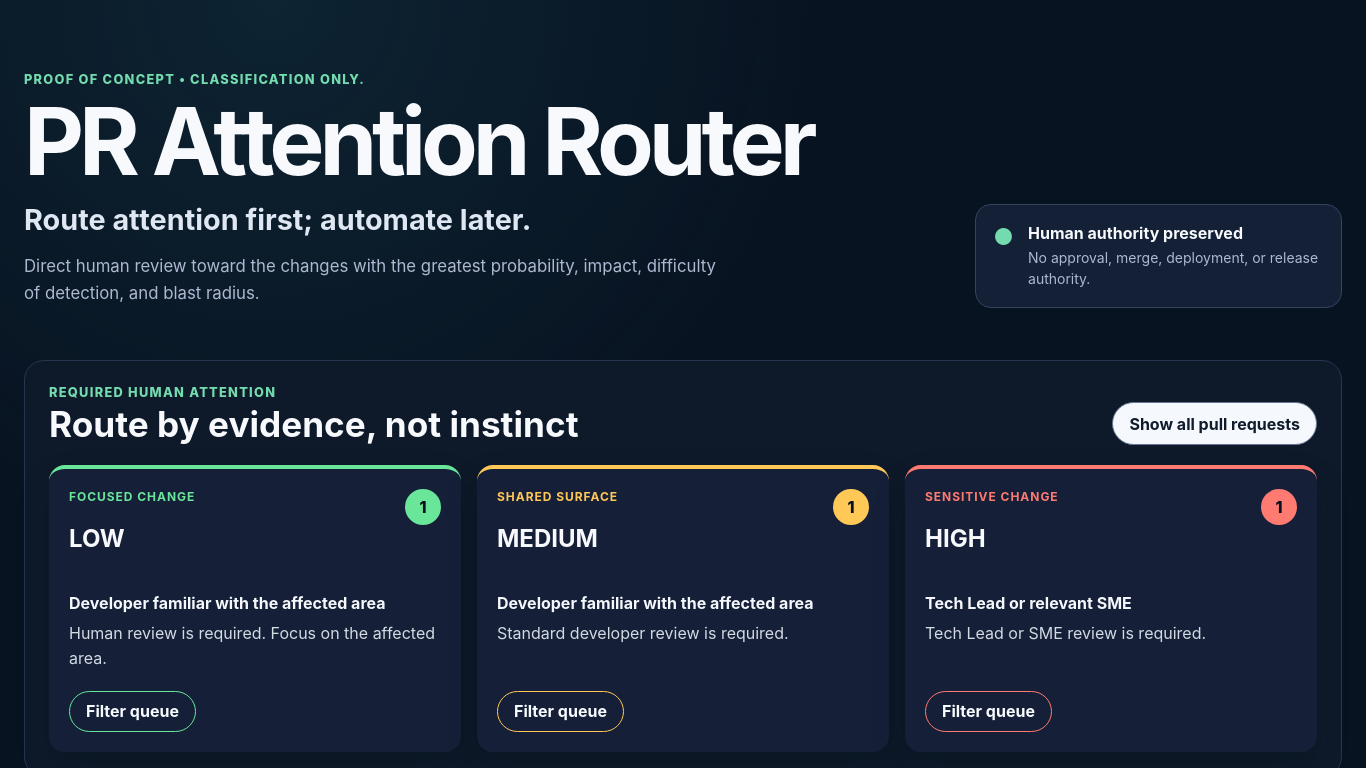
Scenario: App › filters the review queue by attention tier
Step 1. Click the button with aria-label "Show MEDIUM attention pull requests" → (560, 711), box [497, 690, 624, 732]
(page scrolled)
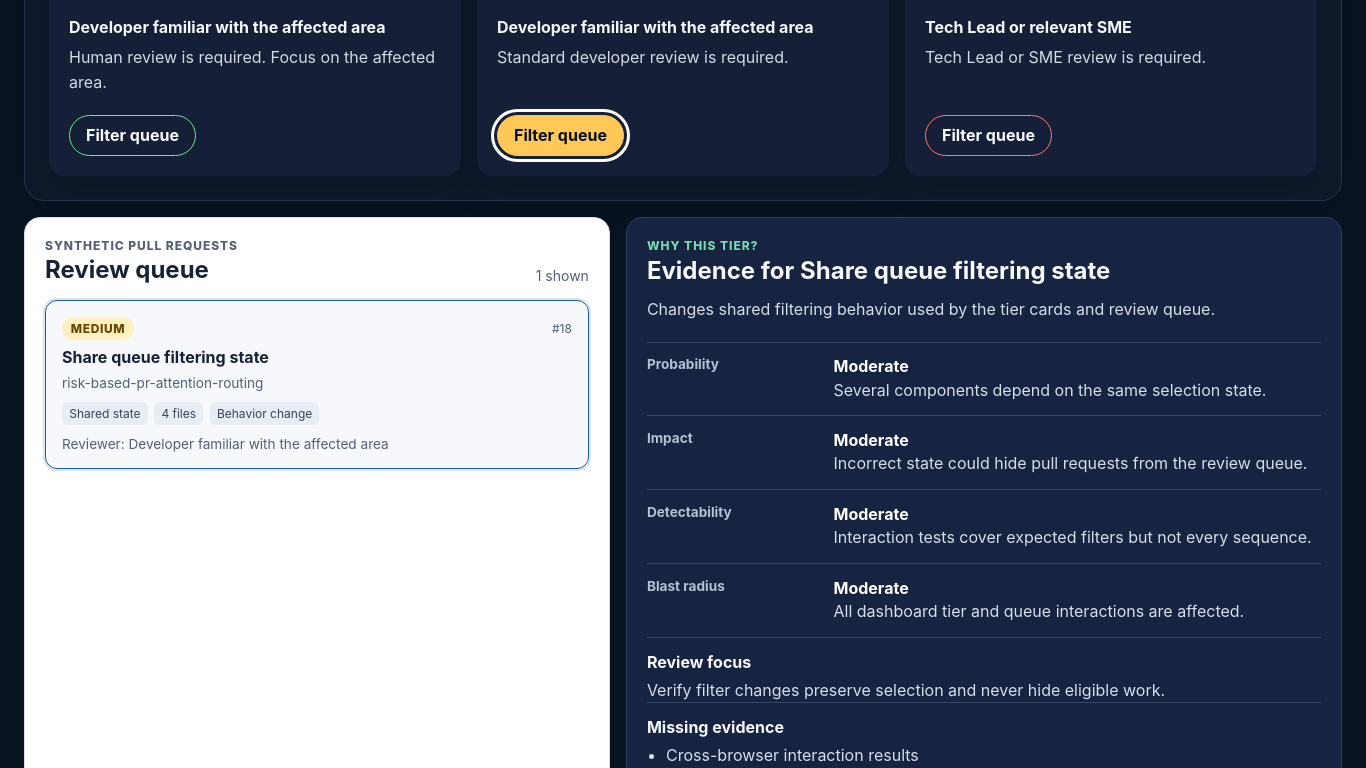
Check: the button "Share queue filtering state" is shown, box [45, 300, 589, 469]
Check: the text "1 shown" is shown, box [536, 267, 589, 284]
